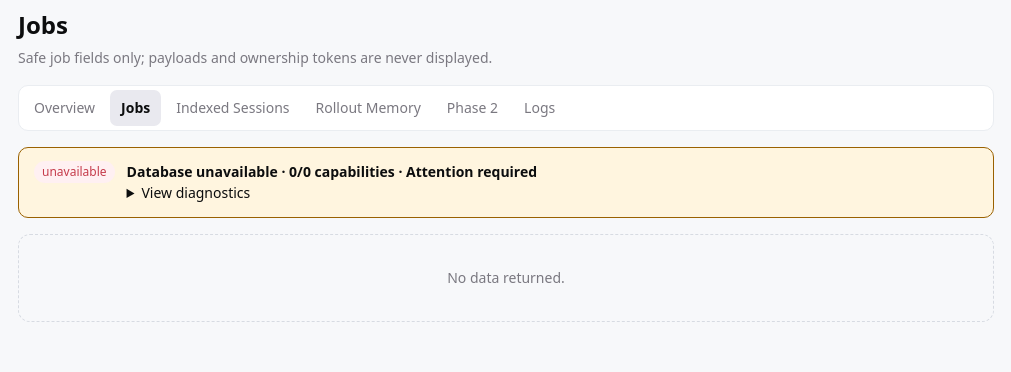
Test: MemoryPage › shows observatory envelope unavailability and warnings in the notice
The image size is (1011, 372).
Expected: the text "unavailable" is shown, top-left (34, 161), bottom-right (115, 183)
Expected: the text "Database unavailable · 0/0 capabilities · Attention required" is shown, top-left (127, 162), bottom-right (537, 181)
Click the heading "View diagnostics" at (196, 193), box top-left (141, 183), bottom-right (250, 202)
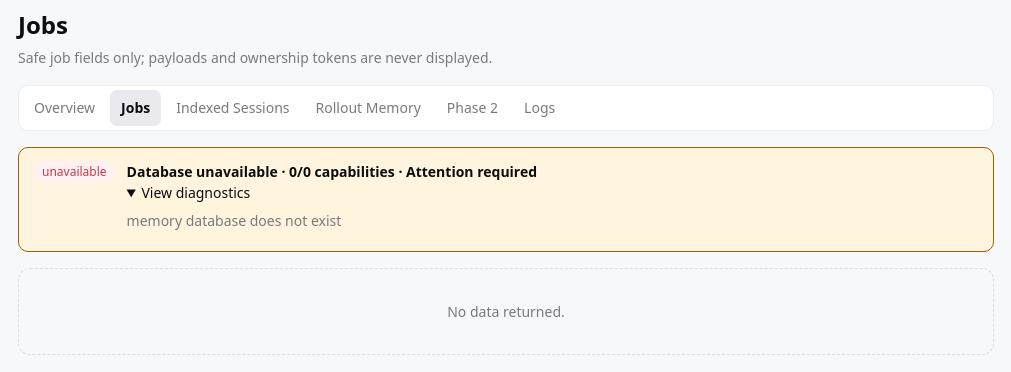
Expected: the text "memory database does not exist" is shown, top-left (127, 211), bottom-right (341, 230)
